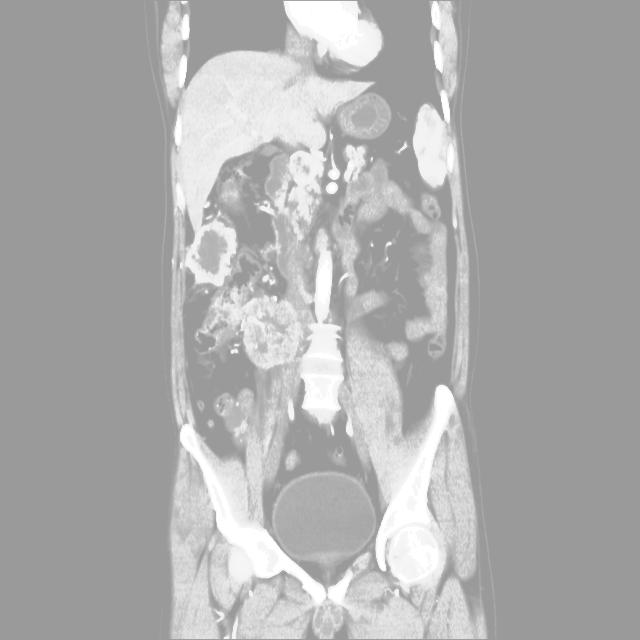TUMOR: (131, 192, 487, 429)
